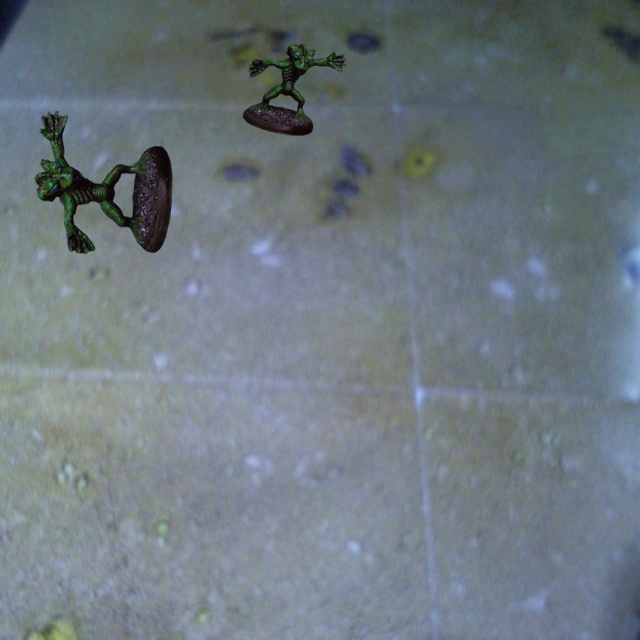pieza_juego: (35, 110, 172, 253), (243, 44, 346, 135)
